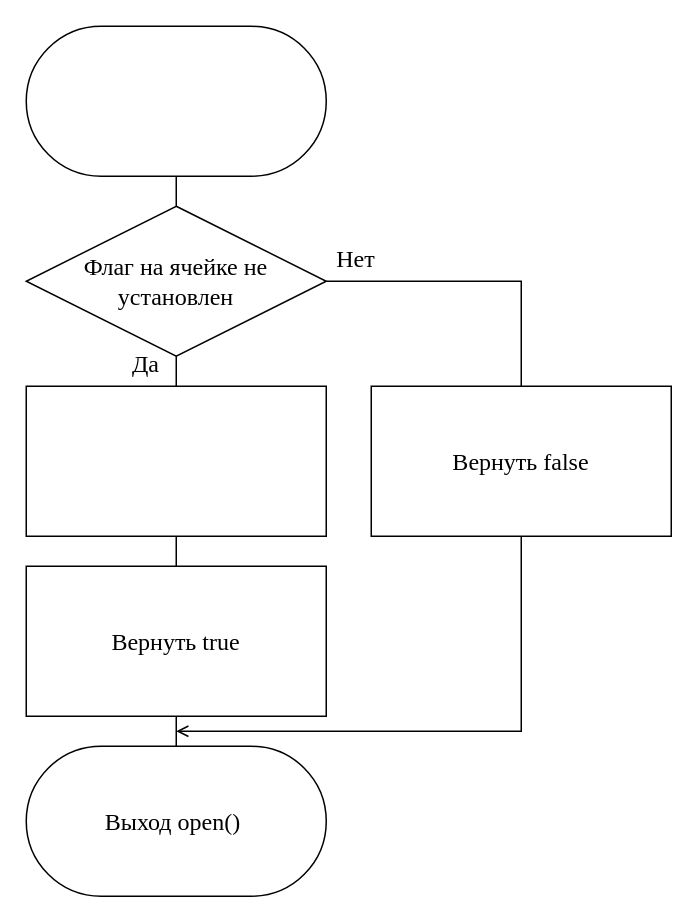
Image size: 698x923. Some labels were removed from this diagram. Here are the shapes that lost their labels. From the top down, the centre of each, then its label:
the point at 175,100: Вход open()
the point at 175,460: Пометить, что ячейка открыта
